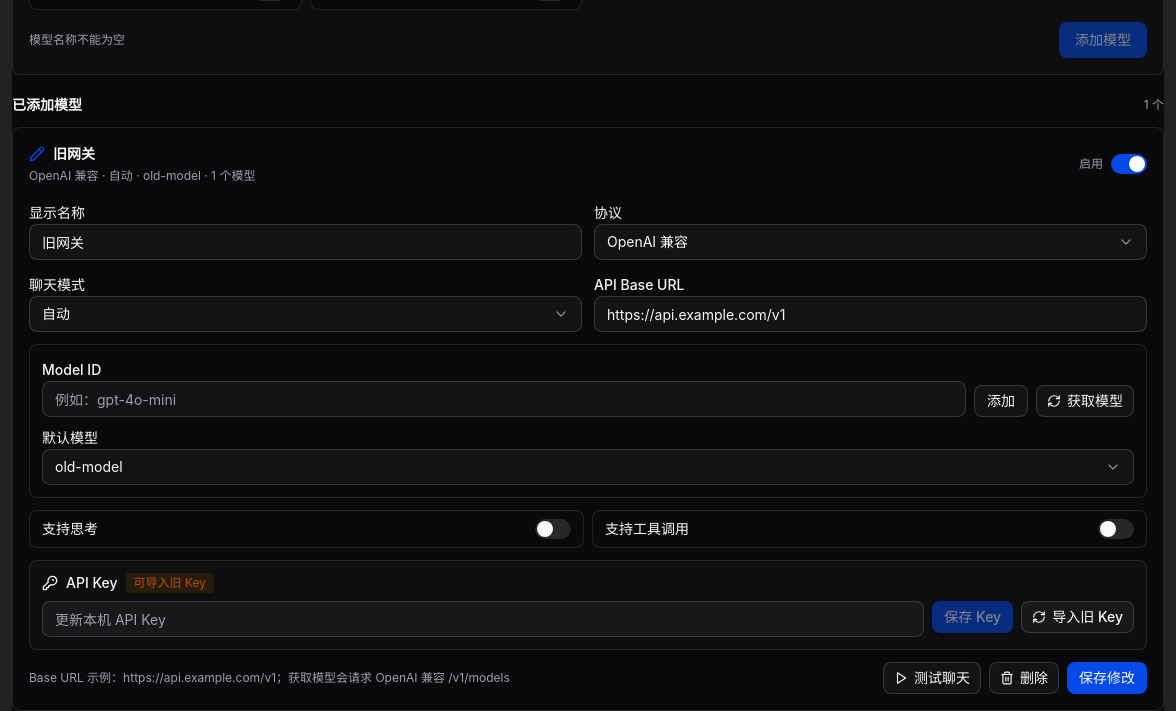
it: CustomProvidersTab › 未知自定义 Key 元数据时可手动导入旧 Key
The image size is (1176, 711).
(page scrolled)
Click the button "导入旧 Key" at coordinates (1078, 617), box [1021,601,1134,633]
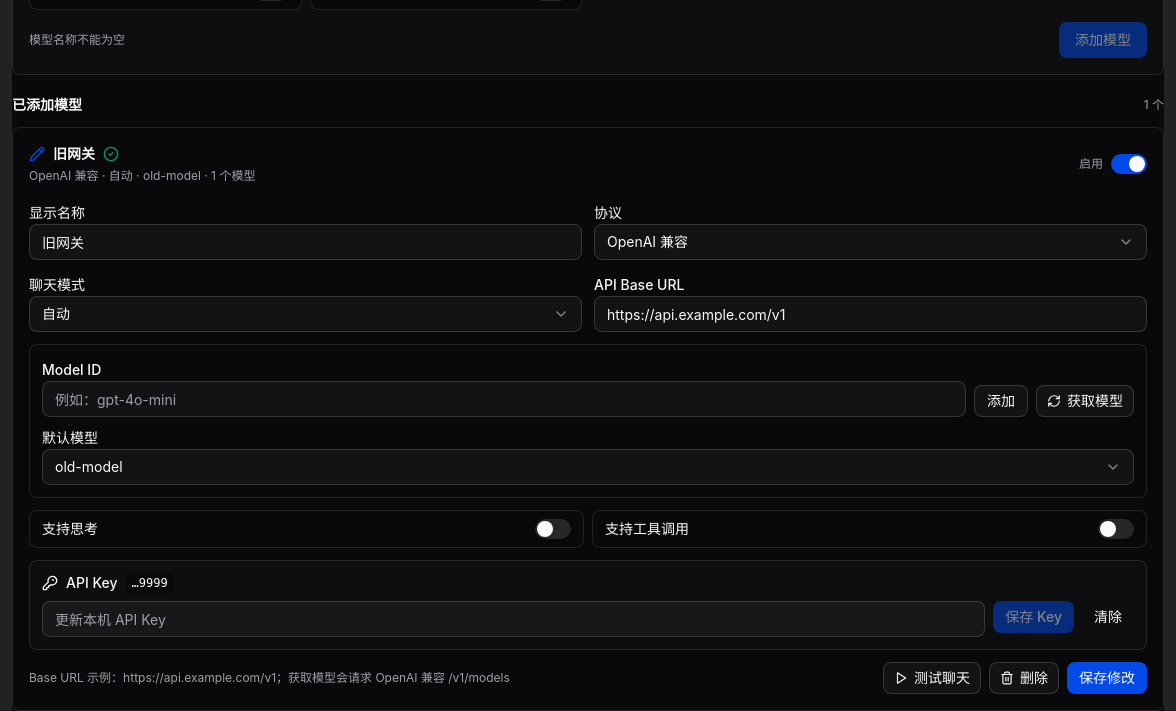
Result: the text "…9999" is shown at [126,573,174,593]
